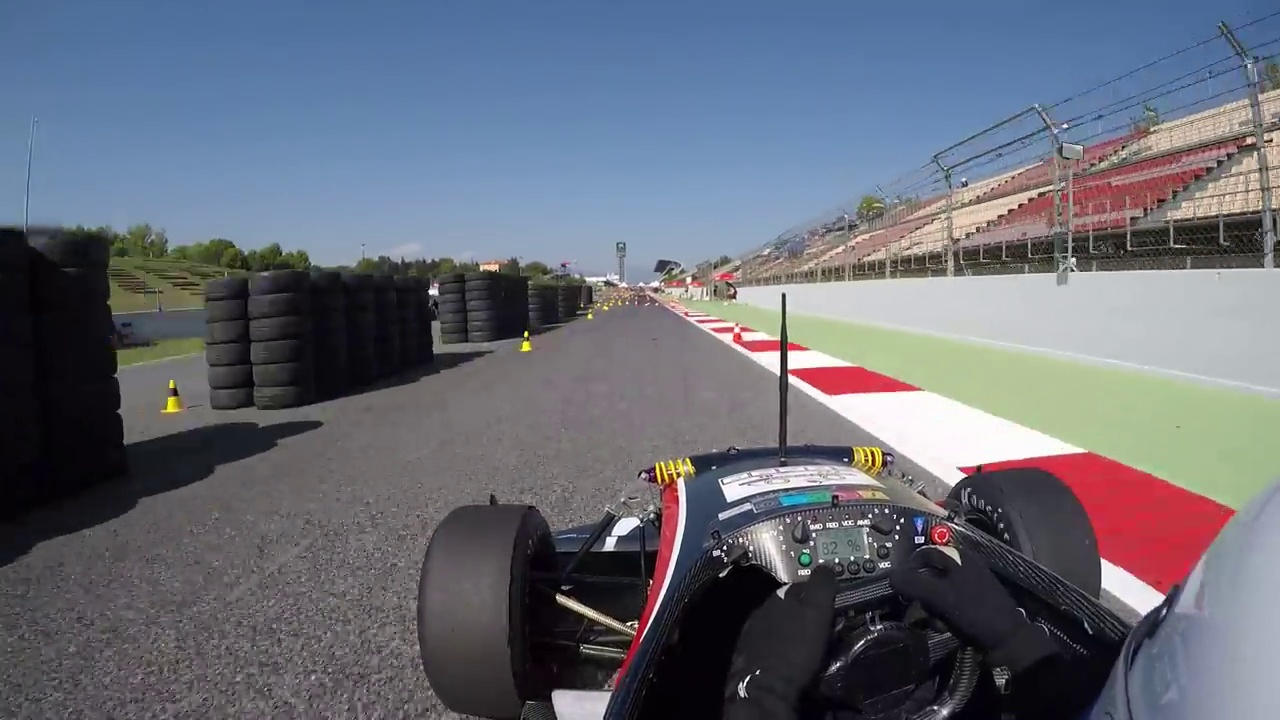Cone: (161, 377, 182, 412)
